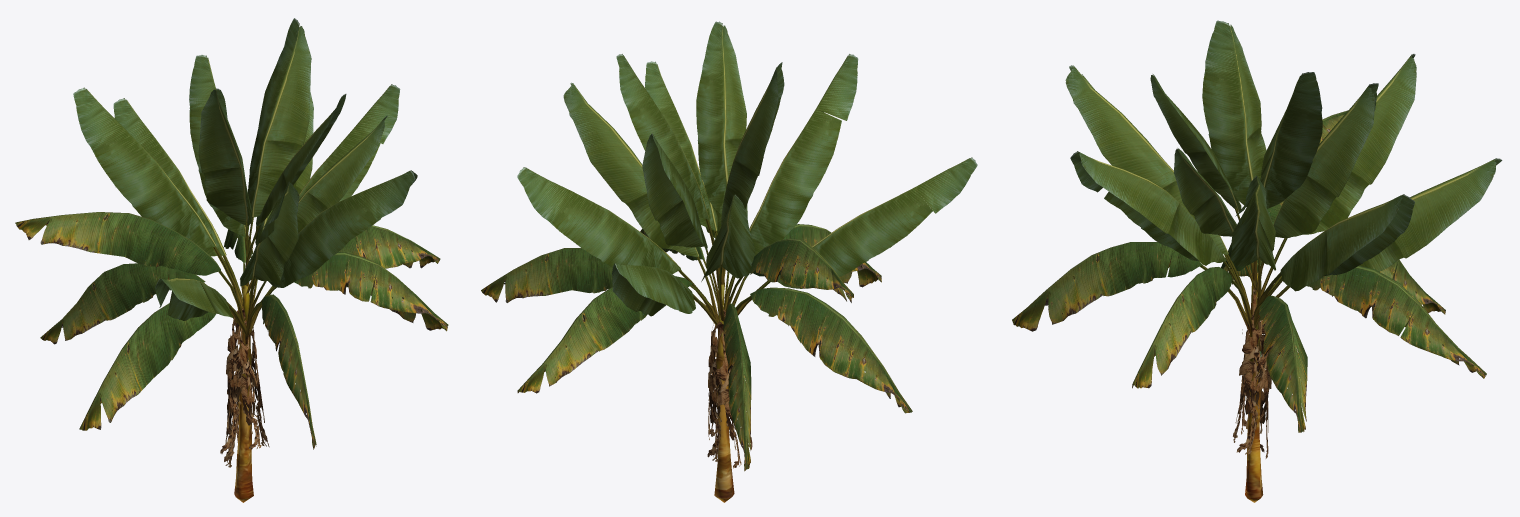
Rendered from Banana.FBX.
The picture shows the model from 3 angles, left to right: view 1: azimuth 30°, elevation 25°; view 2: azimuth 150°, elevation 25°; view 3: azimuth 270°, elevation 25°; orthographic projection. The views are drawn at different scales.
Visible parts, largest first — view 1: Banana; view 2: Banana; view 3: Banana.
Part boxes in pixels (bbox=[...]): Banana: bbox=[15, 18, 448, 502]; Banana: bbox=[481, 21, 977, 502]; Banana: bbox=[1012, 20, 1502, 502].
Bounding box in the file's own units: 24.88 × 26.88 × 25.33.
